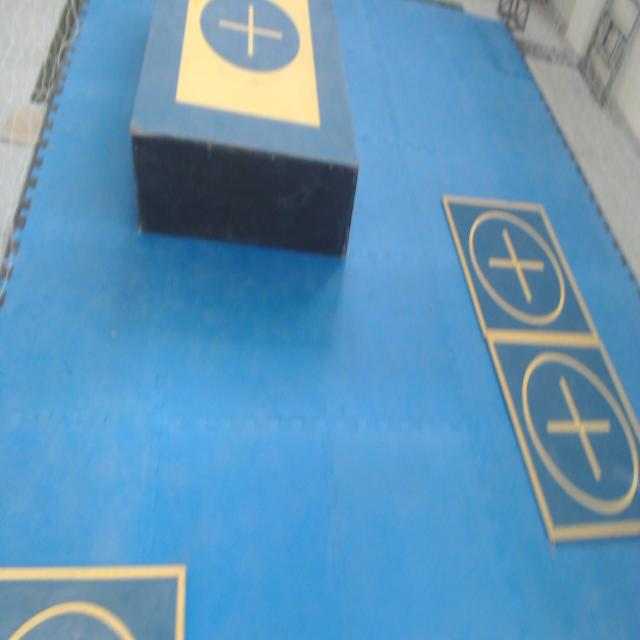base_inicio: (176, 0, 322, 122)
base_pouso: (485, 336, 640, 549), (441, 197, 600, 339), (0, 565, 189, 639)
